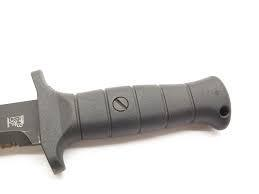Knife: (0, 69, 232, 173)
